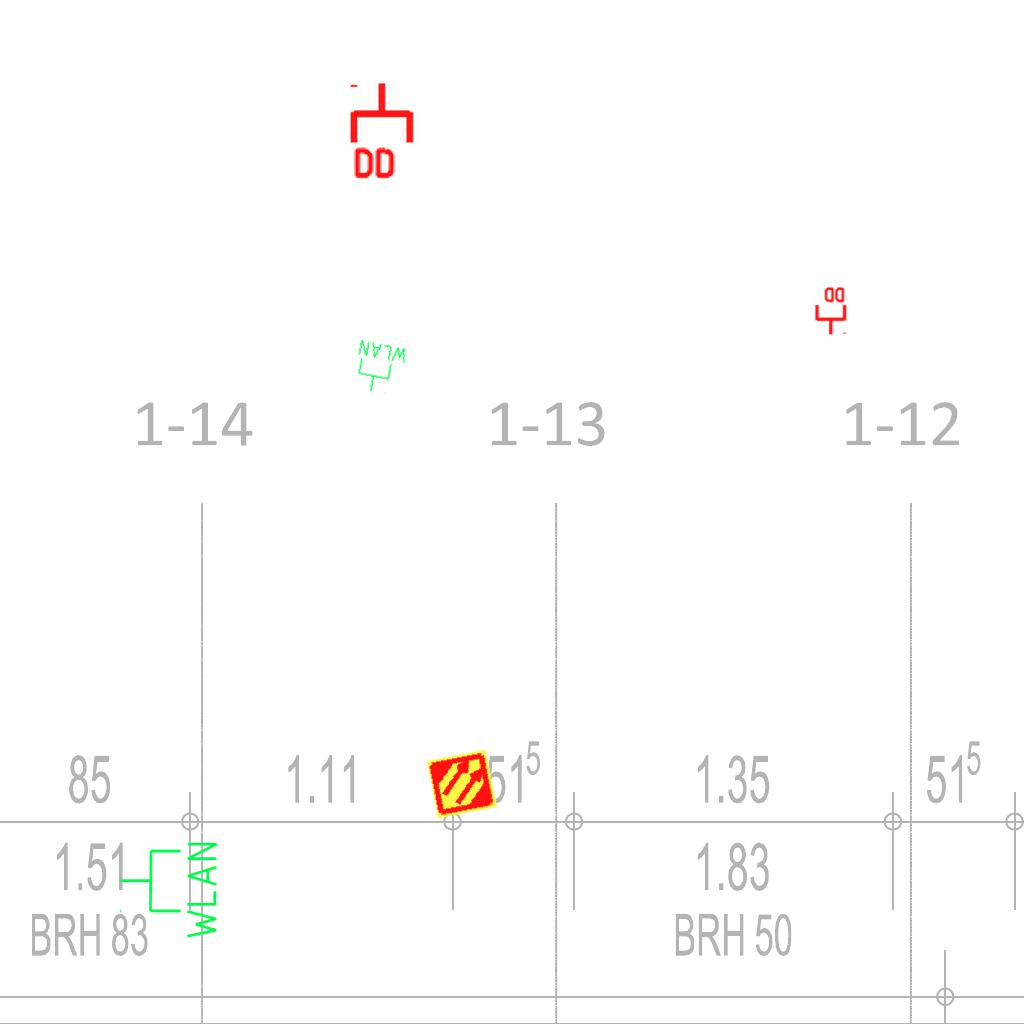ASR_Ansaugrauchmelder: (425, 747, 499, 821)
Datenanschluss_zweifach: (349, 80, 418, 183), (813, 285, 847, 336)
WLAN: (117, 838, 221, 943), (349, 337, 411, 399)
